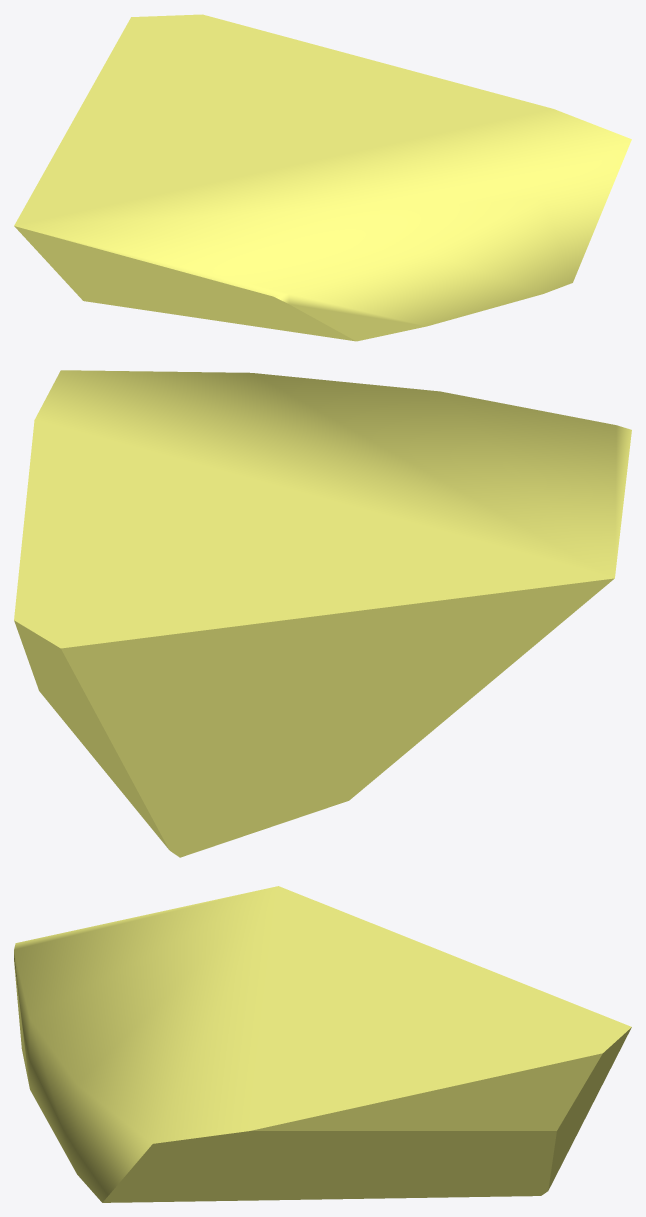
Rendered from breakableCenter_cell_012.fbx.
The picture shows the model from 3 angles, top to bottom: view 1: azimuth 30°, elevation 25°; view 2: azimuth 150°, elevation 25°; view 3: azimuth 270°, elevation 25°; orthographic projection. The views are drawn at different scales.
Parts seen in each view (by area): view 1: breakableCenter_cell.012; view 2: breakableCenter_cell.012; view 3: breakableCenter_cell.012.
Boxes of the visible parts, box(x1,y1,x2,y2) form: breakableCenter_cell.012: box(14, 14, 631, 341); breakableCenter_cell.012: box(14, 370, 631, 857); breakableCenter_cell.012: box(14, 886, 631, 1202).
Size of the model in its own units: 32.67 by 11.56 by 33.09.
